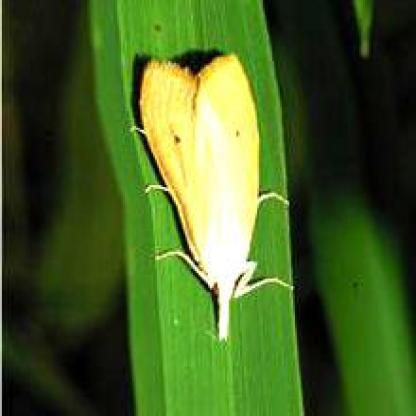stem-borer: (129, 51, 297, 342)
